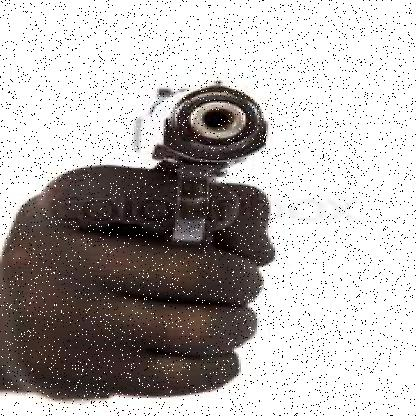pistol: (132, 77, 280, 254)
